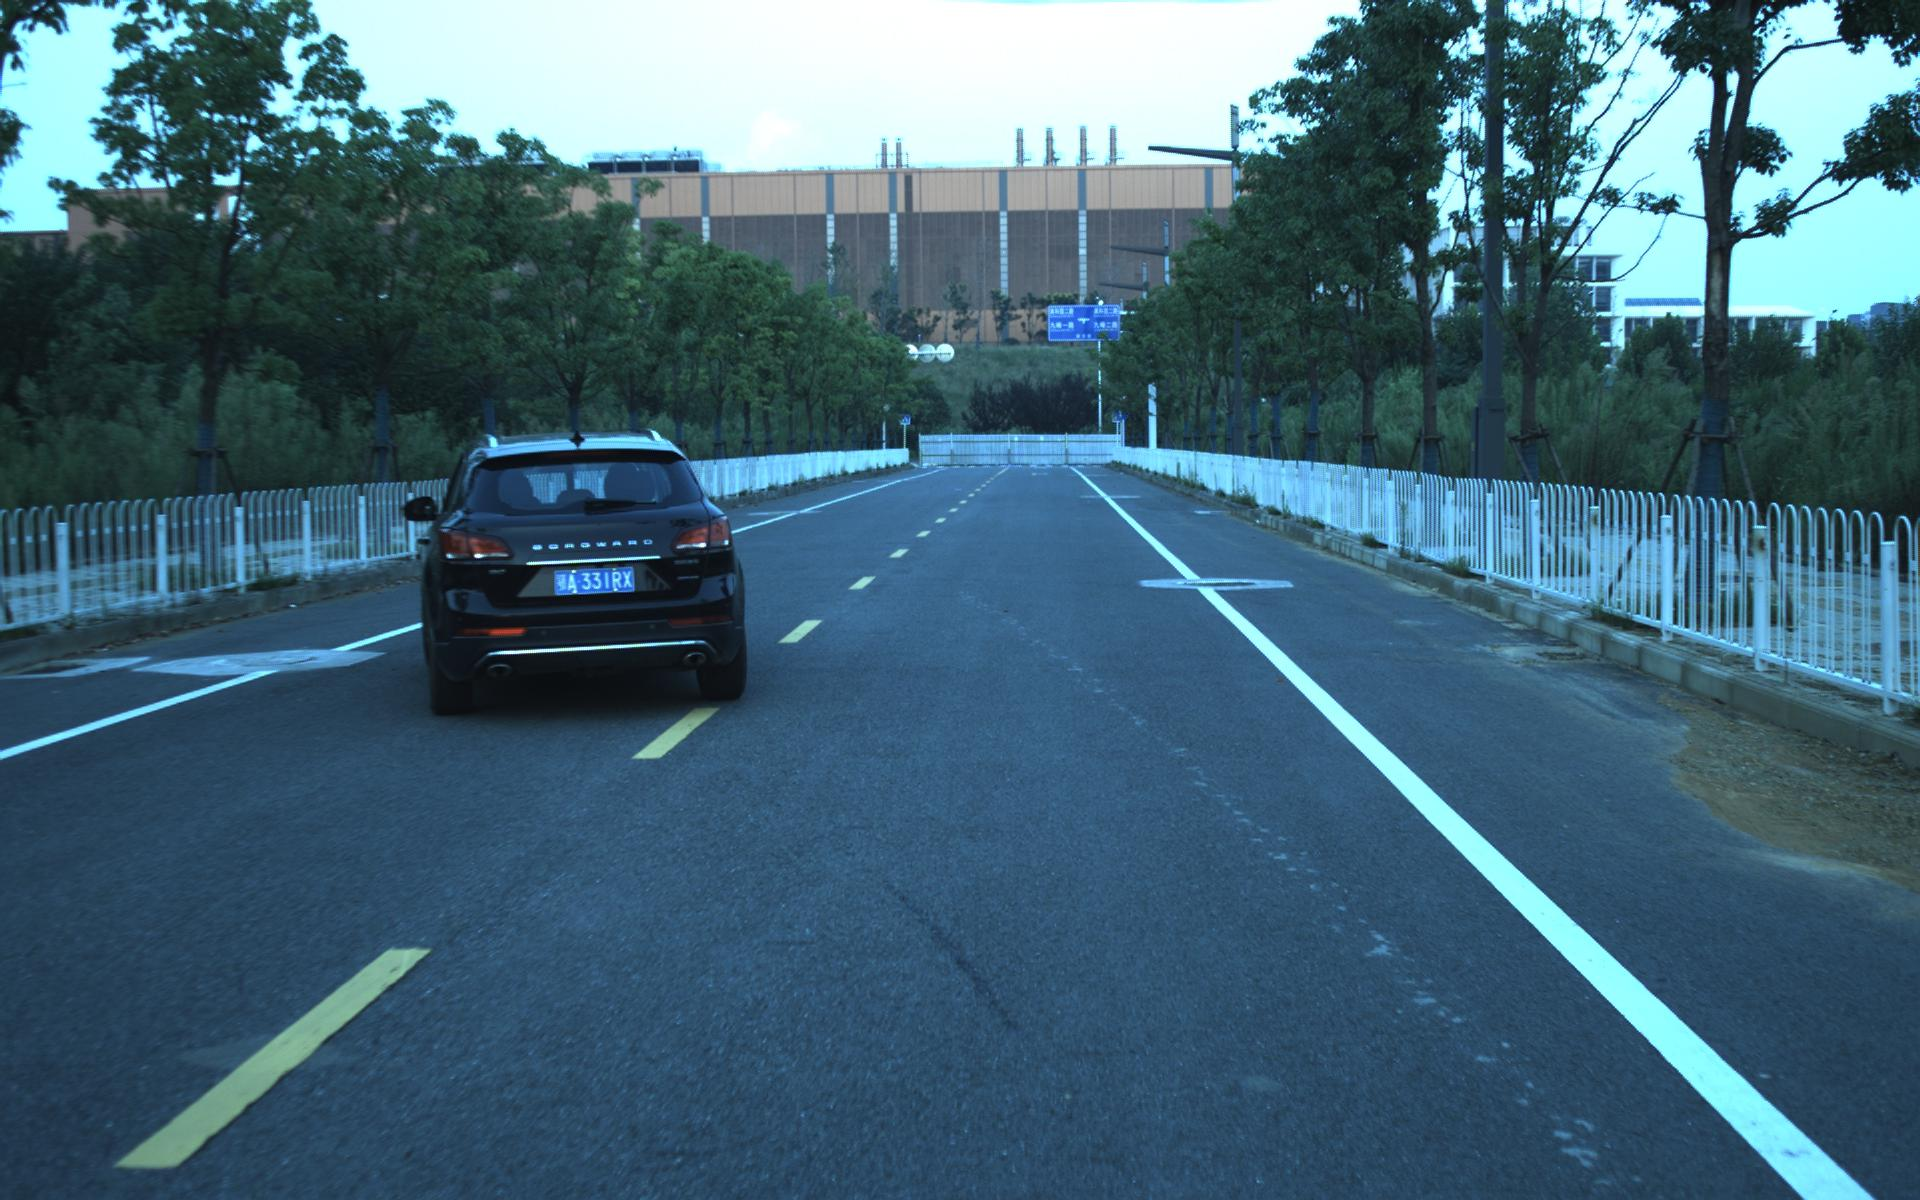Car: (411, 426, 760, 718)
